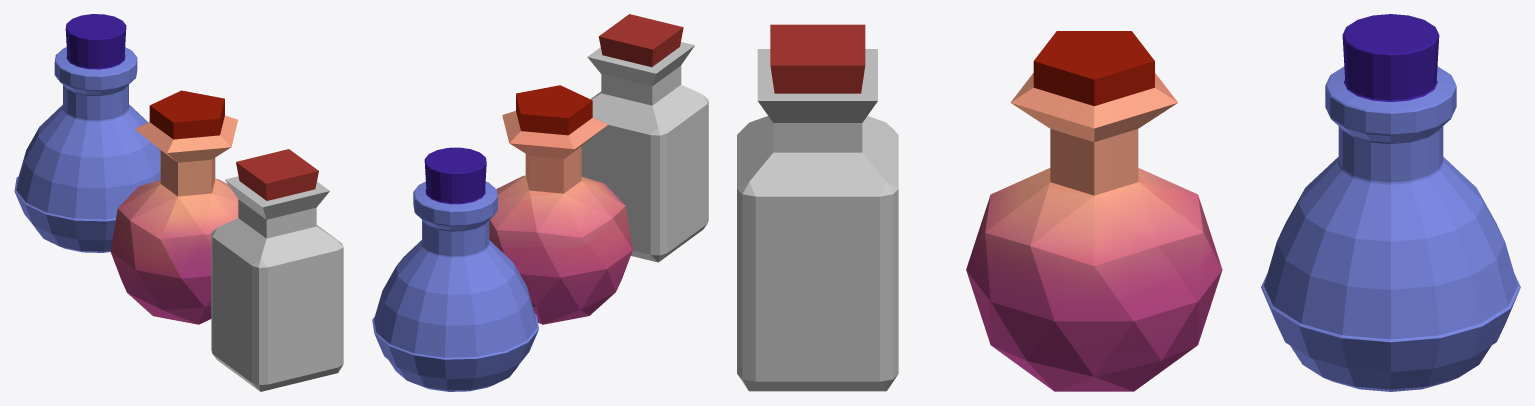
File: Potion.fbx
3 renders of one model, left to right at view 1: azimuth 30°, elevation 25°; view 2: azimuth 150°, elevation 25°; view 3: azimuth 270°, elevation 25°, orthographic. The views are drawn at different scales.
Parts seen in each view (by area): view 1: Cube, Circle, Icosphere; view 2: Circle, Cube, Icosphere; view 3: Circle, Icosphere, Cube.
Part boxes in pixels (box(x1,y1,x2,y2)): Cube: box(211, 149, 343, 391); Circle: box(14, 14, 160, 252); Icosphere: box(110, 90, 238, 324); Circle: box(372, 147, 538, 391); Cube: box(581, 14, 708, 262); Icosphere: box(489, 85, 632, 324); Circle: box(1261, 14, 1520, 391); Icosphere: box(966, 31, 1222, 391); Cube: box(737, 24, 898, 391).
Bounding box in the file's own units: 155 × 232 × 469.
